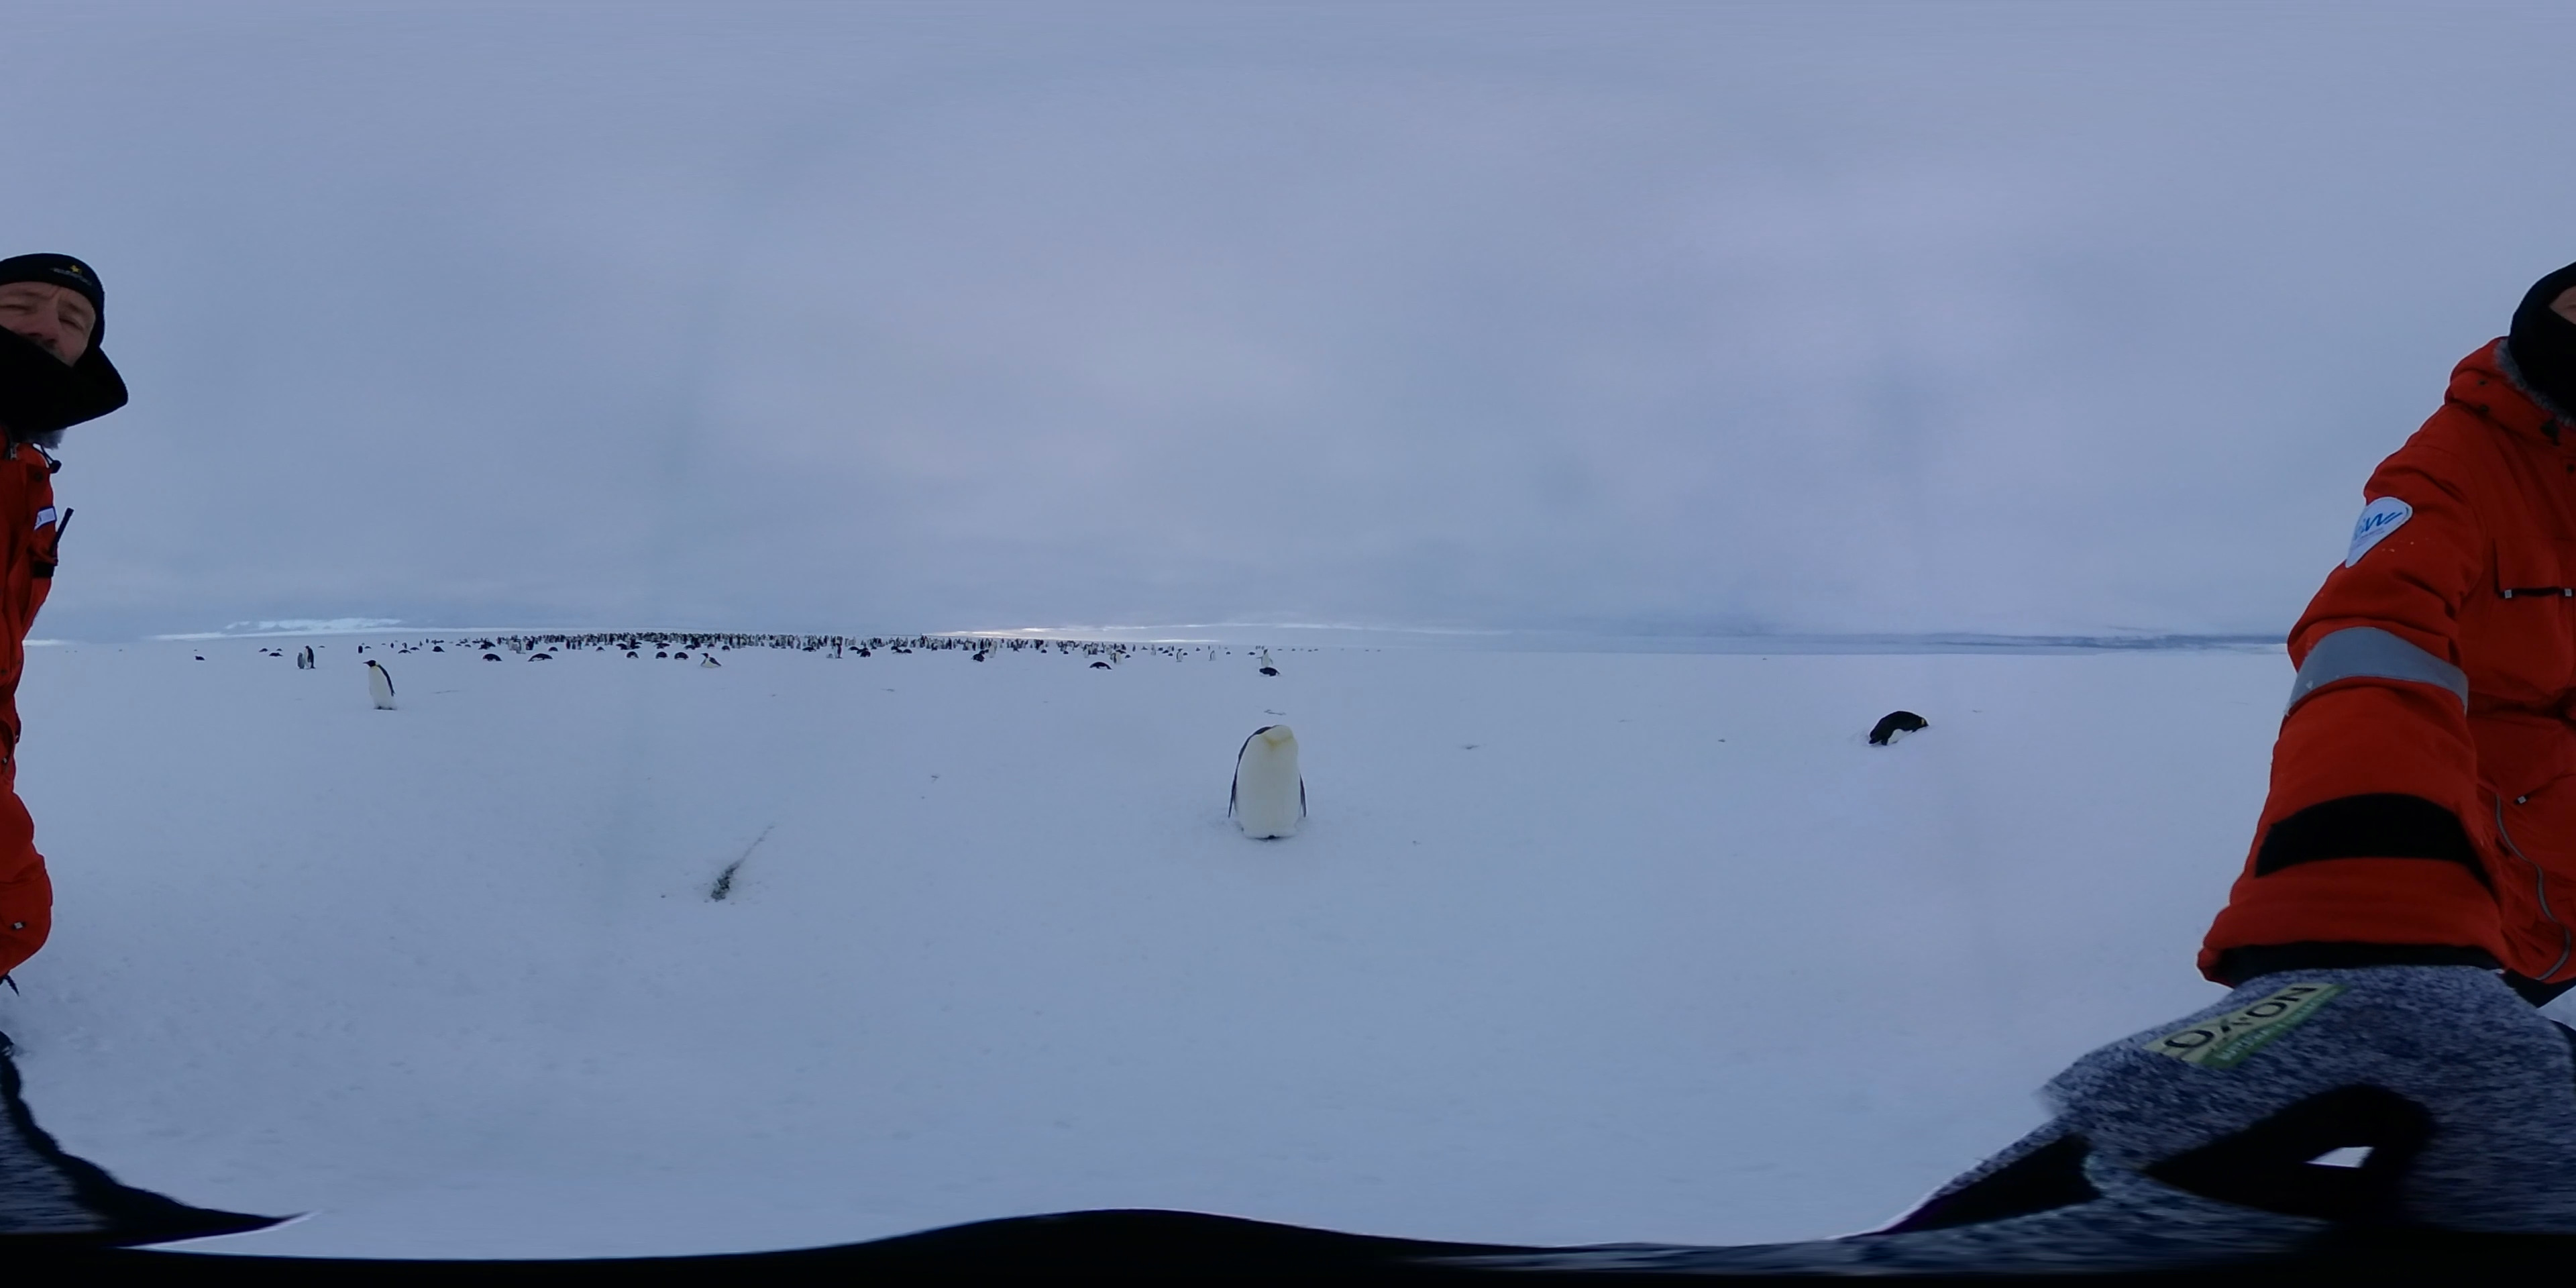adult_standing_penguin: (1224, 721, 1311, 843), (360, 659, 399, 713), (1257, 649, 1273, 669), (304, 644, 315, 672)
adult_toboggan_penguin: (1865, 710, 1935, 747), (697, 652, 720, 670), (1086, 660, 1119, 670), (1255, 665, 1281, 677), (480, 651, 504, 662), (529, 652, 552, 662), (624, 649, 642, 660), (652, 651, 669, 660), (672, 651, 688, 660)
juvenile_penguin: (294, 652, 307, 670)
researcher: (2215, 235, 2576, 1014), (0, 235, 128, 1214)
